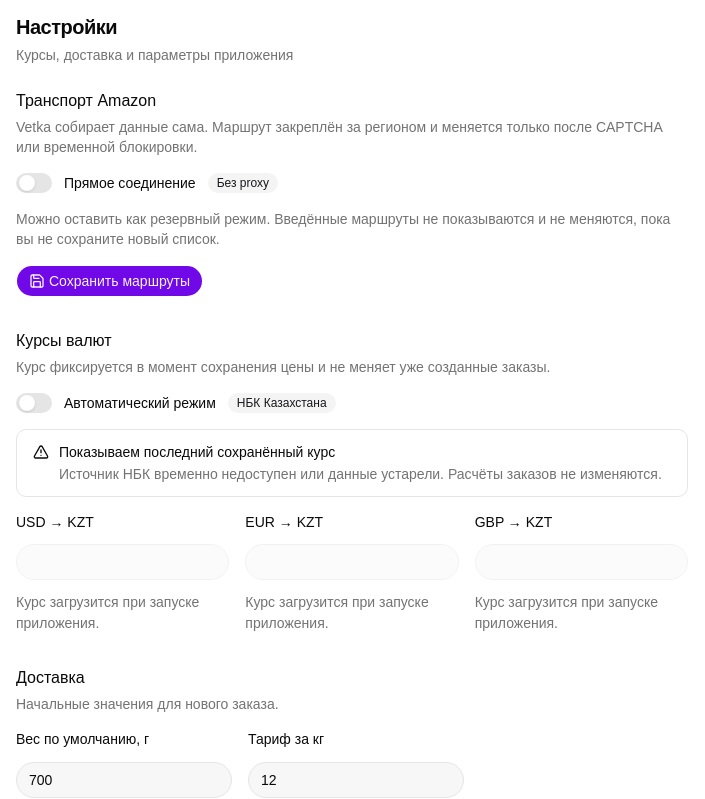
Test: SettingsPage › shows the destructive manual state and enables rate inputs
The width and height of the screenshot is (705, 799).
Check: the heading "Настройки" is shown, box [16,16,117,38]
Click the switch named "Ручной режим курсов" at (34, 403), box [16,393,52,413]
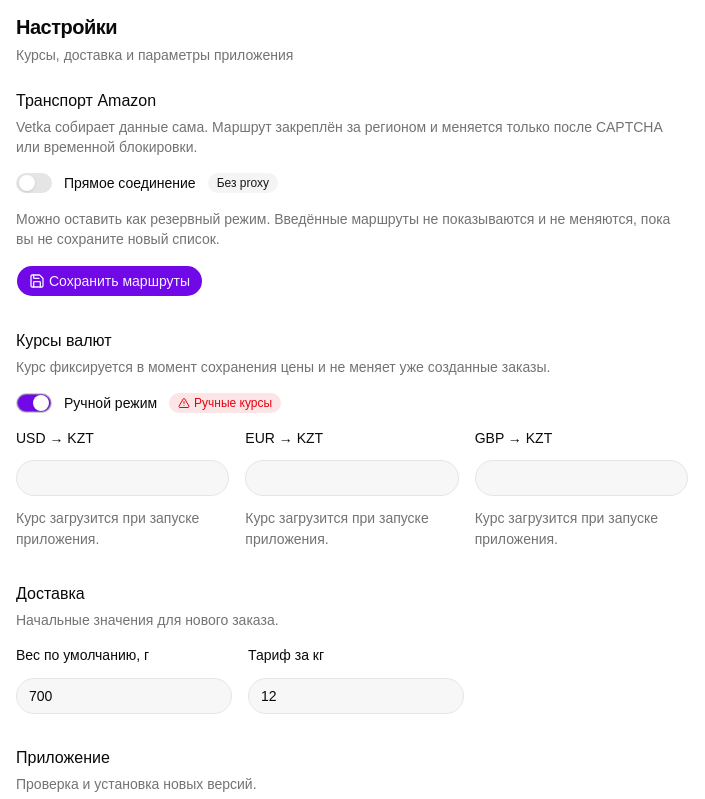
Check: the text "Ручные курсы" is shown, box [169,393,281,413]
Check: the number field labelled "USD → KZT" is enabled, box [16,460,229,496]
